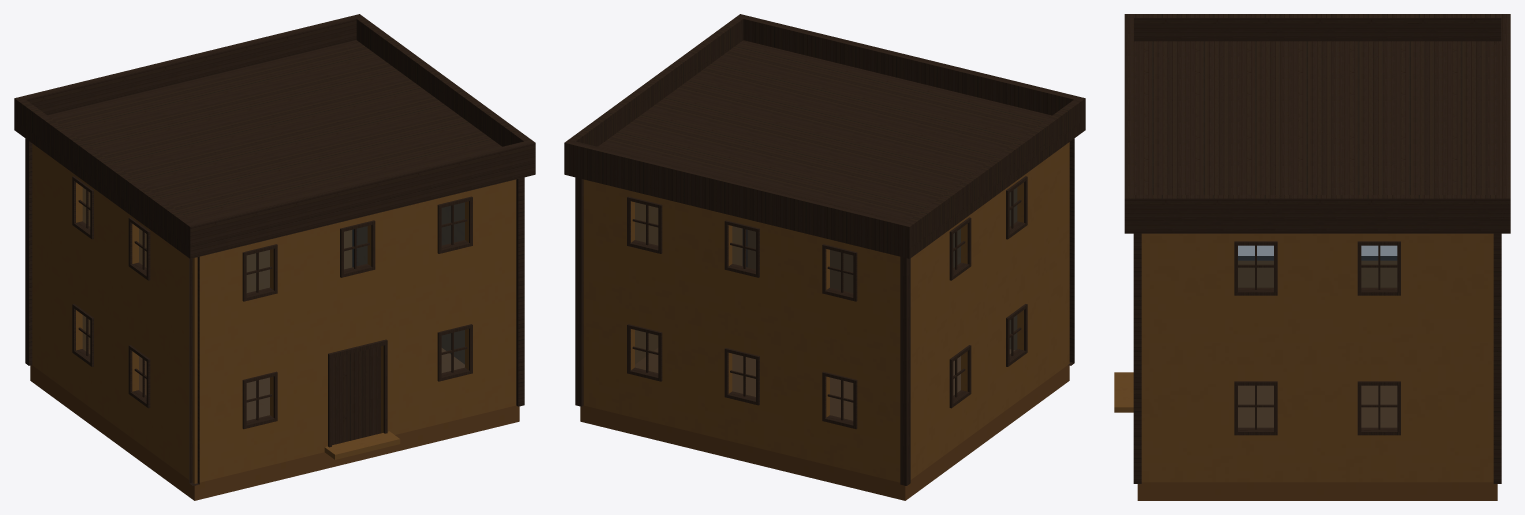
File: silkroad_house_01.glb
3 renders of one model, left to right at view 1: azimuth 30°, elevation 25°; view 2: azimuth 150°, elevation 25°; view 3: azimuth 270°, elevation 25°, orthographic. The views are drawn at different scales.
Parts seen in each view (by area): view 1: silkroad_house_01; view 2: silkroad_house_01; view 3: silkroad_house_01.
Part boxes in pixels (x1=…): silkroad_house_01: x1=14, y1=14, x2=535, y2=500; silkroad_house_01: x1=564, y1=14, x2=1085, y2=500; silkroad_house_01: x1=1114, y1=14, x2=1510, y2=500.
Size of the model in its own units: 8.5 by 6.6 by 7.7.
6 materials, 5 textured.
